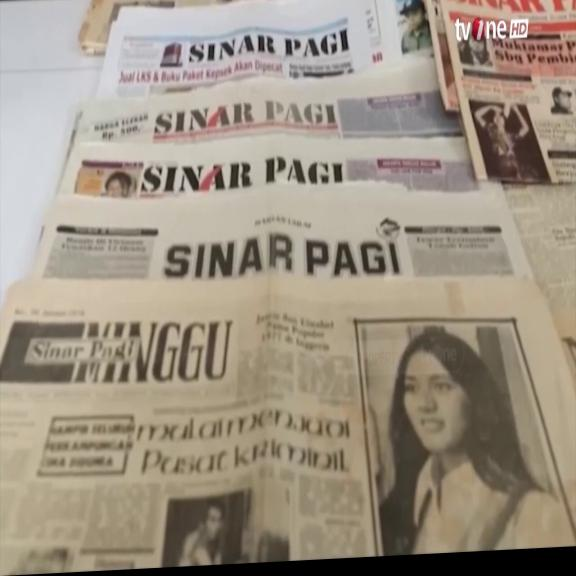Kertas: (1, 257, 384, 571), (99, 0, 412, 97)
